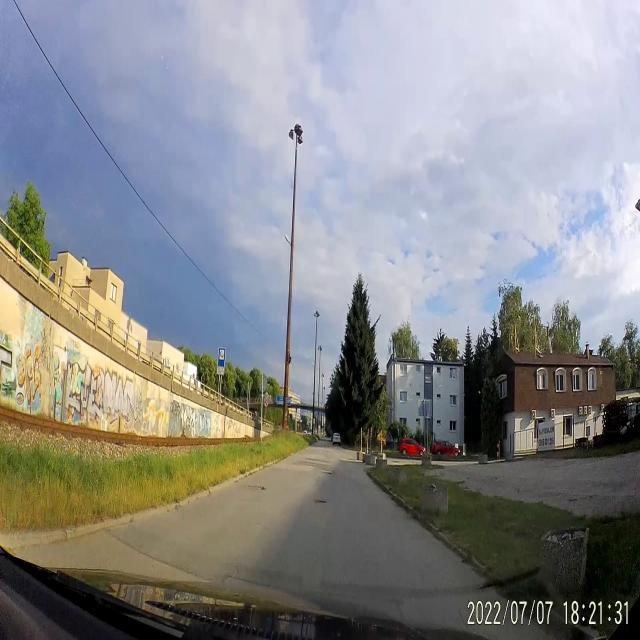Pothole: (235, 482, 268, 500), (309, 492, 329, 512)
